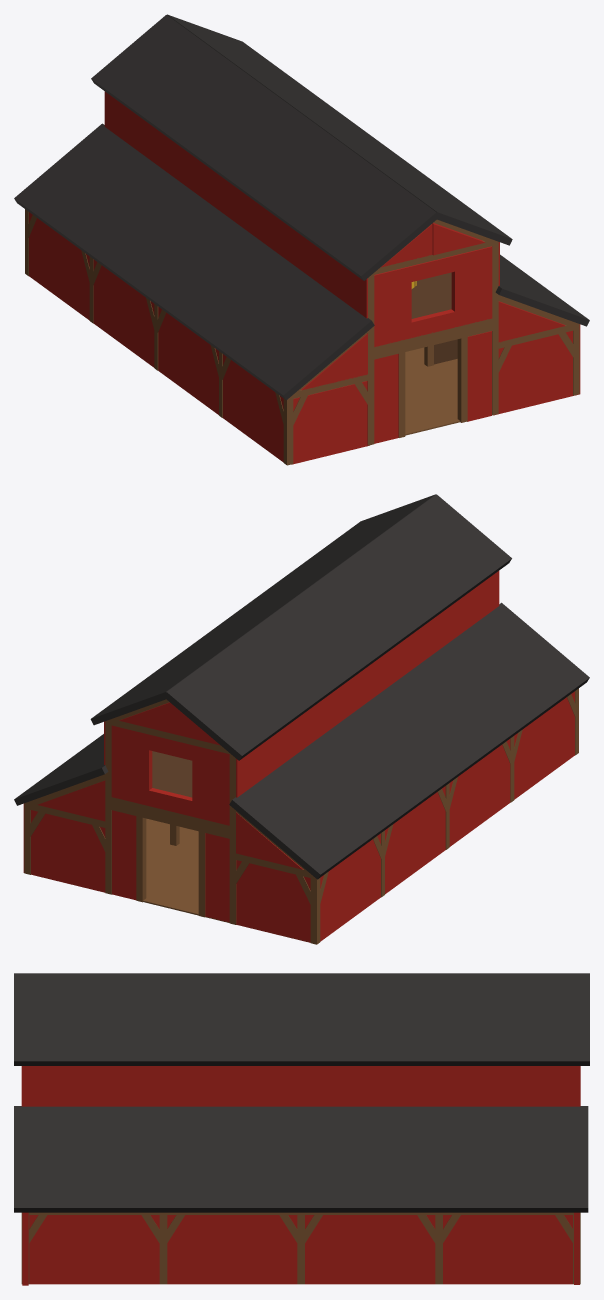
Rendered from Farm_barn.fbx.
The picture shows the model from 3 angles, top to bottom: view 1: azimuth 30°, elevation 25°; view 2: azimuth 150°, elevation 25°; view 3: azimuth 270°, elevation 25°; orthographic projection. The views are drawn at different scales.
Visible parts, largest first — view 1: Farm_barn; view 2: Farm_barn; view 3: Farm_barn.
Part boxes in pixels (box(x1,y1,x2,y2)): Farm_barn: box(14, 14, 589, 465); Farm_barn: box(14, 494, 589, 944); Farm_barn: box(14, 973, 589, 1285).
Bounding box in the file's own units: 4928 × 7520 × 3393.
